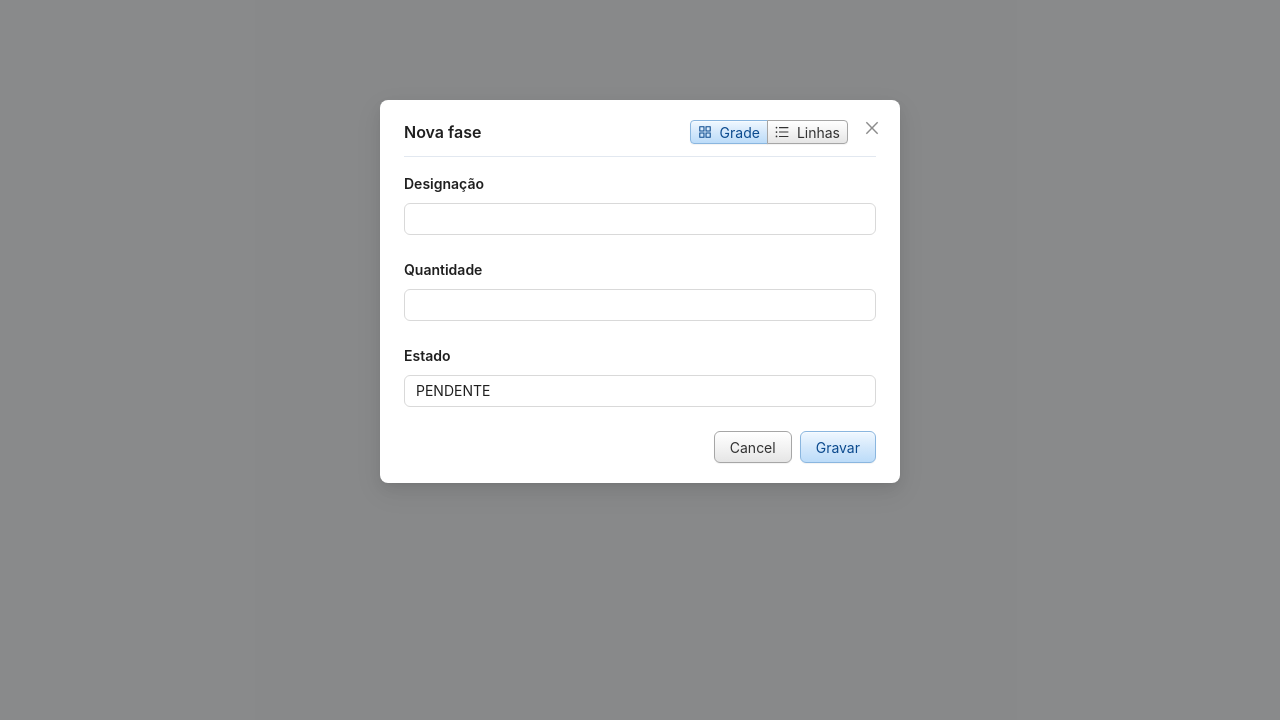
it: ModalFormulario — Grade | Linhas › grava linha a linha, ignora as em branco, e as que falham ficam na tabela com o erro
This screenshot has width=1280, height=720.
Click the button "Linhas" at [807, 132], box [767, 120, 848, 144]
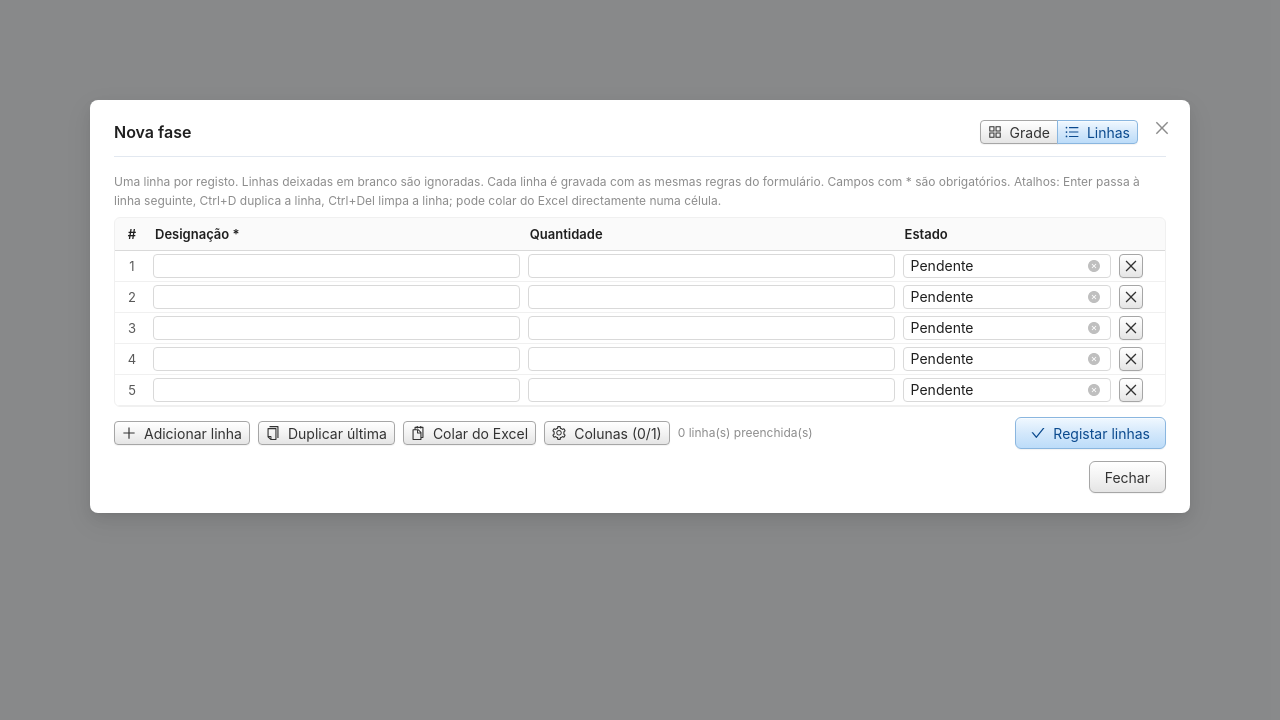
Check: the element with test id "painel-linhas" is shown, box [114, 173, 1166, 449]
Type "A" into the field named "Designação, linha 1" at [336, 266], box [153, 254, 520, 278]
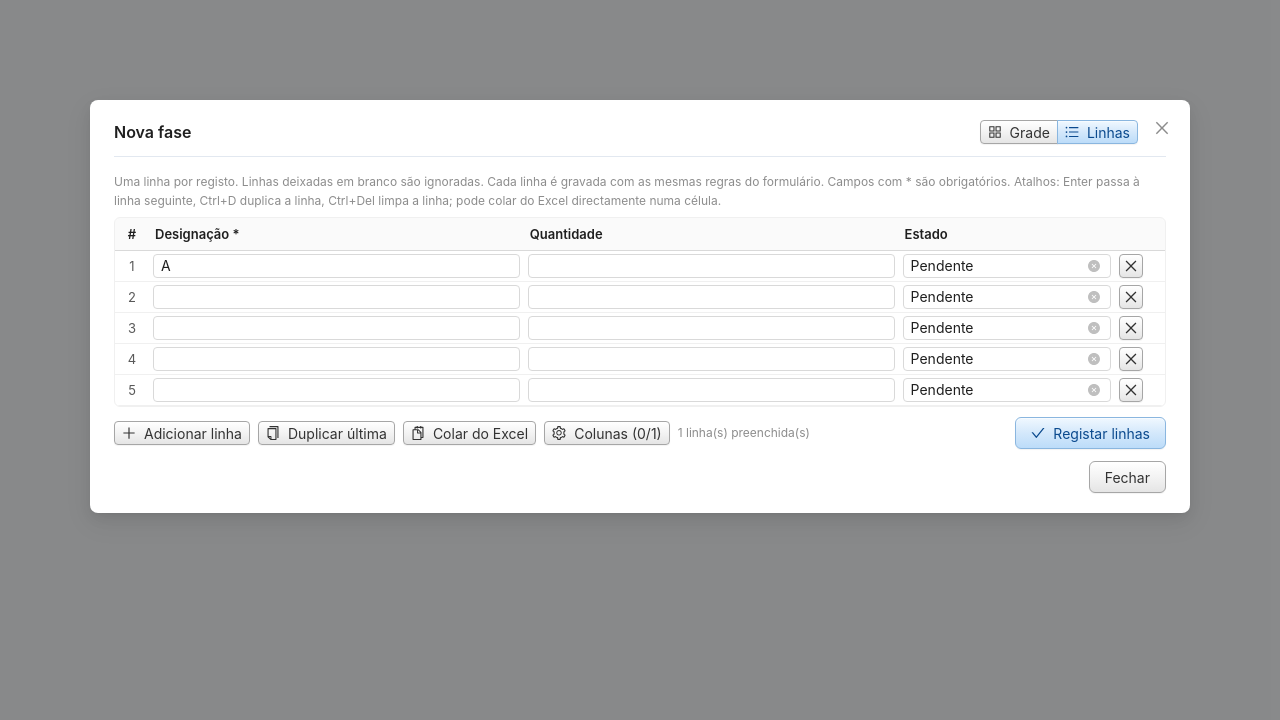
Type "B" into the field named "Designação, linha 3" at [336, 328], box [153, 316, 520, 340]
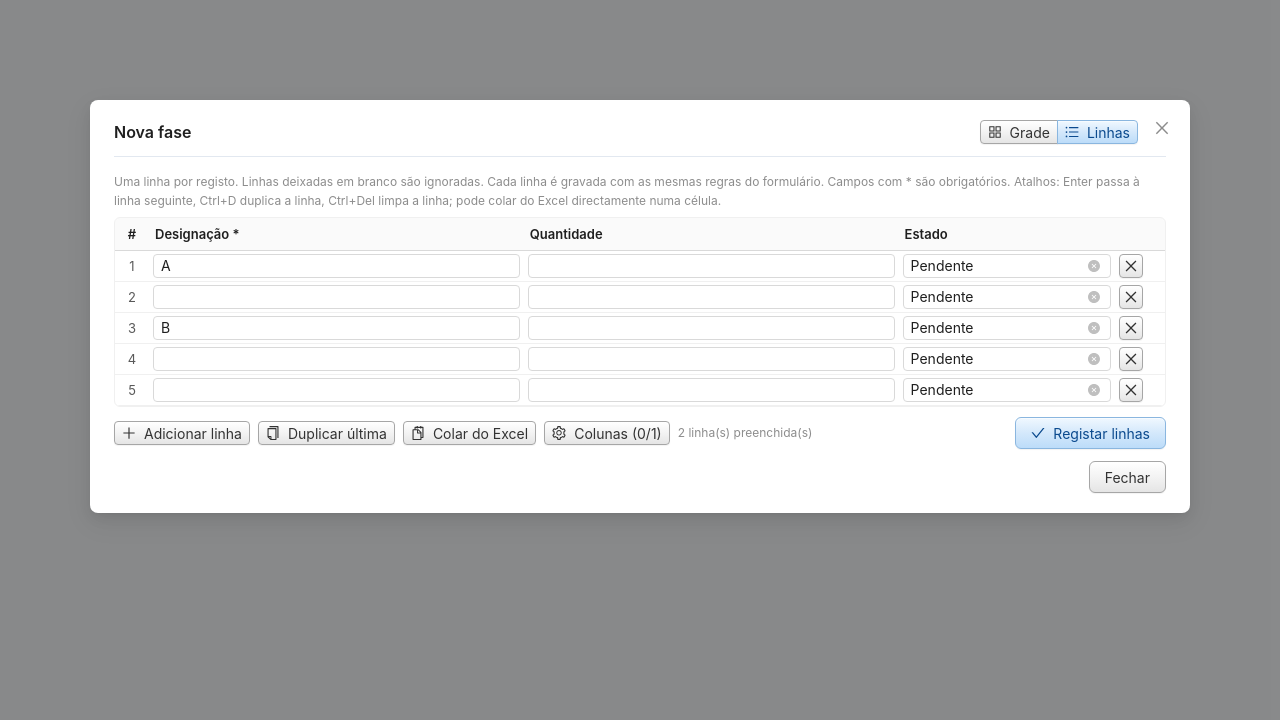
Type "C" into the field named "Designação, linha 5" at [336, 390], box [153, 378, 520, 402]
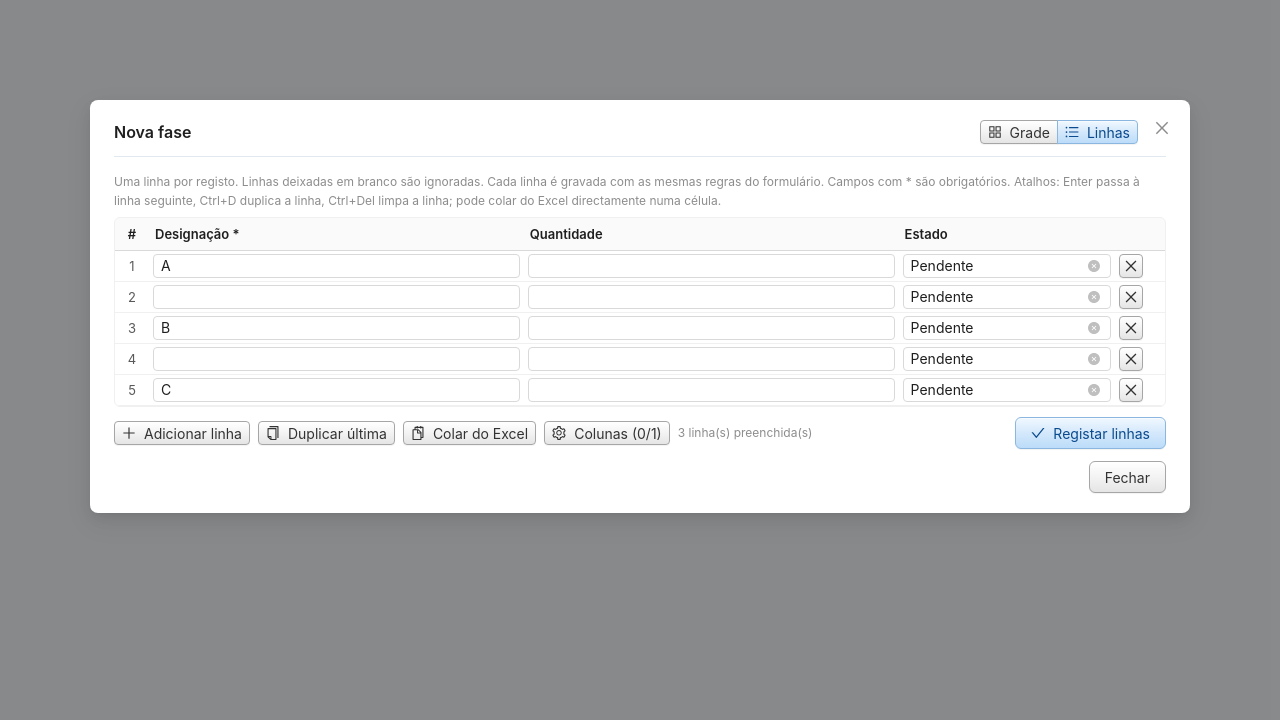
Click the button "Registar linhas" at [1091, 433], box [1015, 417, 1166, 449]
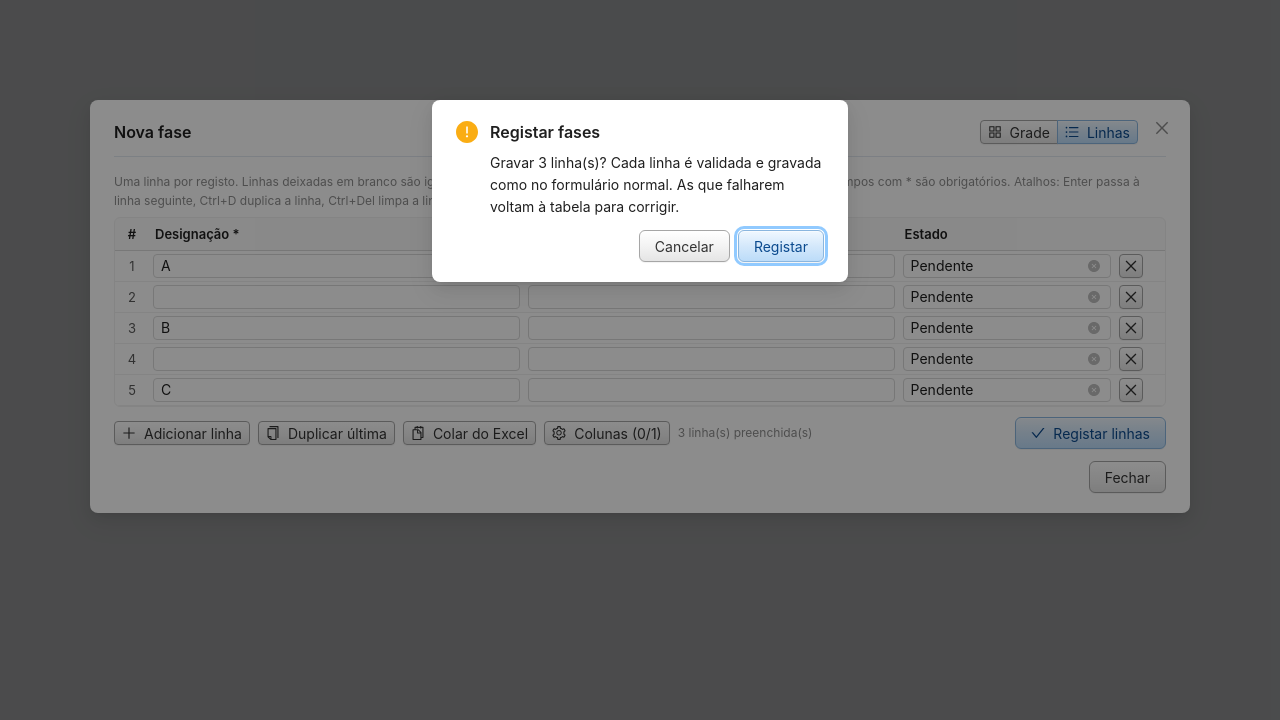
Click the button "Registar" at [781, 246], box [738, 230, 824, 262]
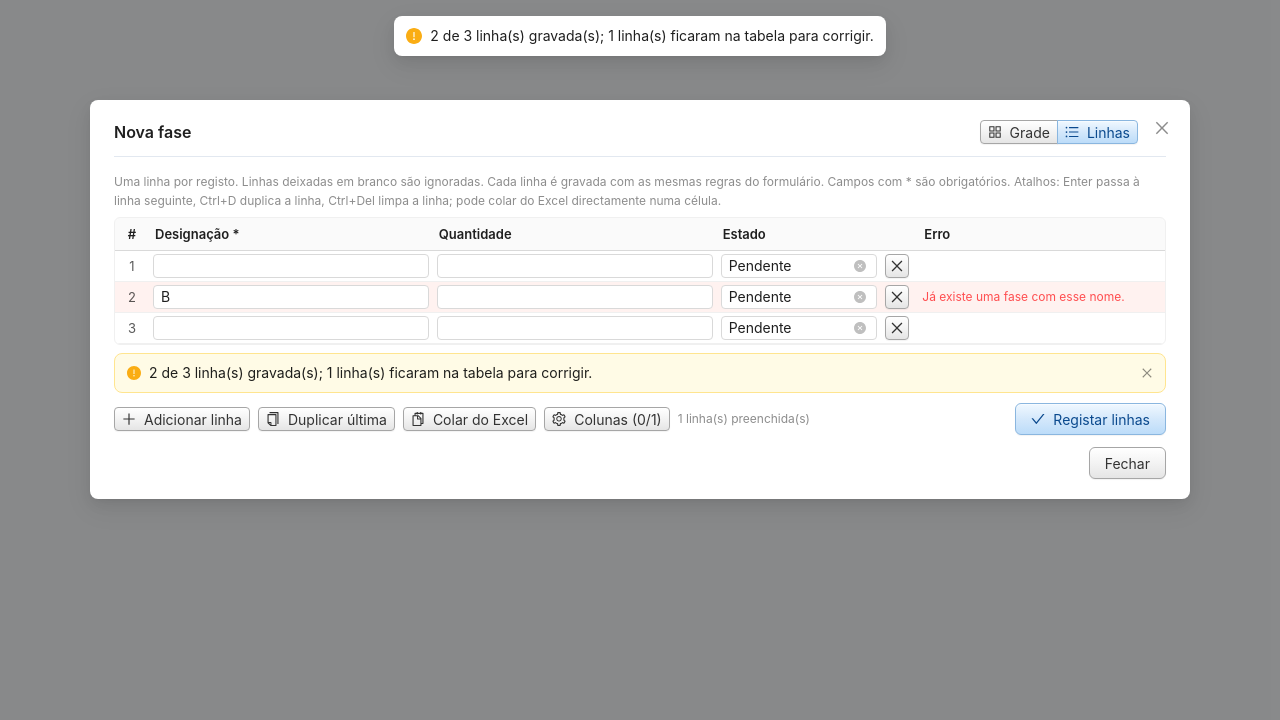
Check: the text "Já existe uma fase com esse nome." is shown, box [918, 282, 1165, 313]
Check: the text "2 de 3 linha(s) gravada(s); 1 linha(s) ficaram na tabela para corrigir." below "Já existe uma fase com esse nome." is shown, box [149, 364, 592, 381]
